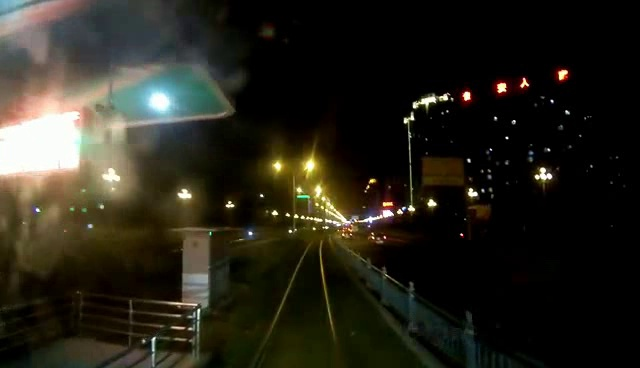car: (369, 231, 386, 248)
